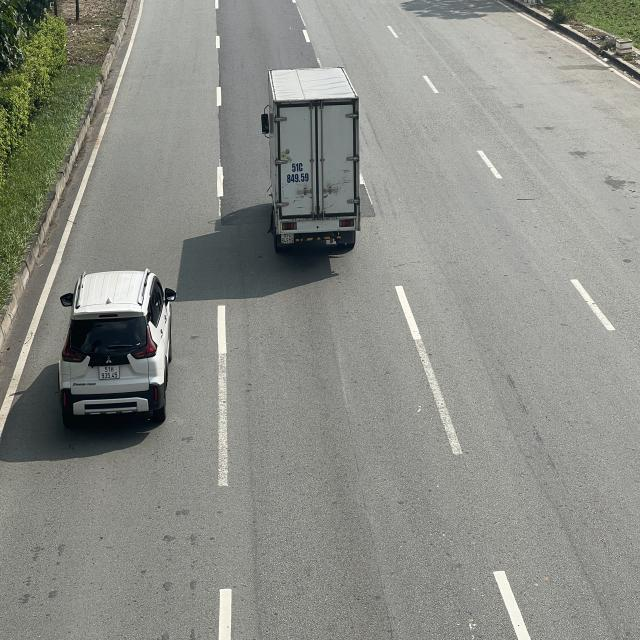car: (60, 268, 178, 425)
truck: (260, 66, 359, 250)
